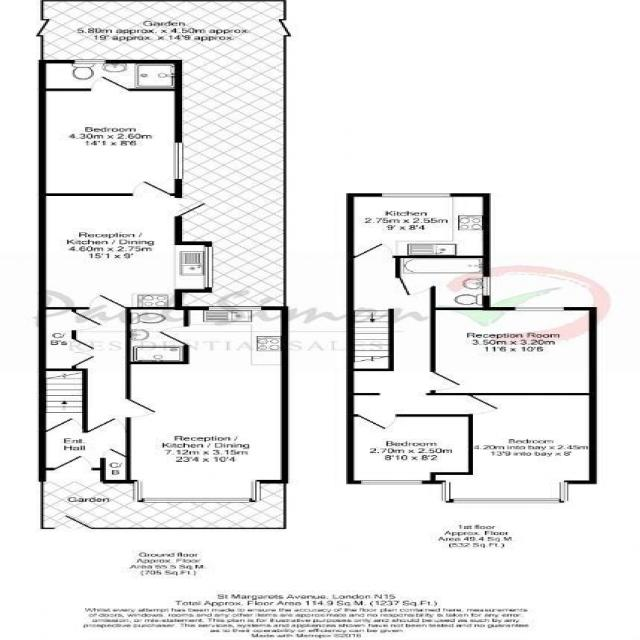DOOR: (155, 325, 190, 347), (125, 397, 159, 419), (72, 310, 105, 332), (352, 242, 396, 258), (430, 370, 463, 391), (86, 293, 129, 309), (354, 414, 397, 430), (468, 395, 502, 415), (88, 75, 130, 91), (130, 180, 172, 196)
ROOM: (124, 306, 289, 503), (38, 179, 213, 310), (429, 393, 598, 504), (38, 75, 184, 196), (429, 307, 598, 396), (346, 193, 491, 258), (346, 414, 473, 485)
WINDOW: (439, 481, 570, 504), (133, 481, 261, 503), (204, 246, 214, 289), (173, 141, 184, 180), (380, 192, 453, 197), (359, 480, 424, 485), (513, 306, 565, 312), (206, 306, 266, 311), (481, 275, 491, 296), (72, 59, 108, 64)
